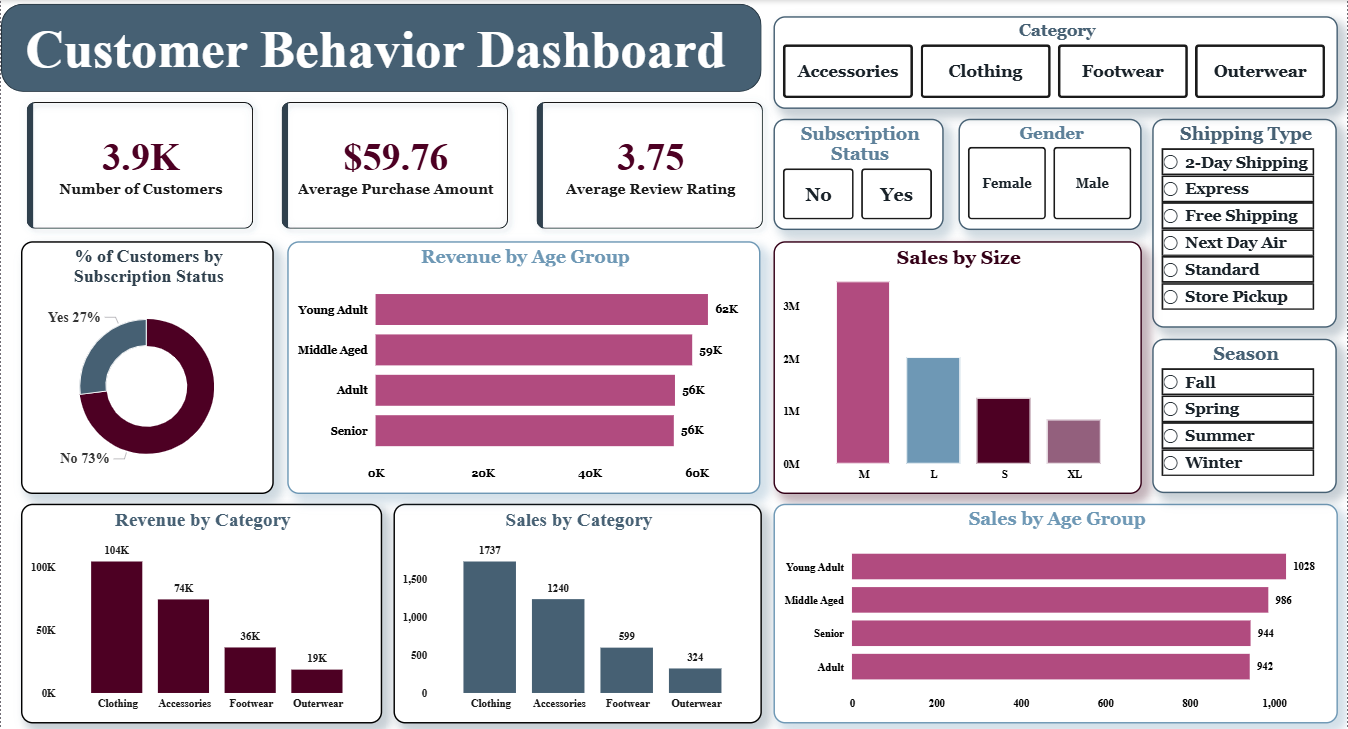

What the dashboard file says about the page in this screenshot:
{"tool":"powerbi","page":{"name":"Page 1","canvas":[1500,820],"ordinal":0},"visuals":[{"type":"cardVisual","fields":{"Data":["customer_analysis customer.Number of Customers","customer_analysis customer.Average Purchase Amount","customer_analysis customer.Average Review Rating"]},"box":[0,85.2,878,199.4],"z":0},{"type":"shape","box":[0,4.8,847.5,98.1],"z":1000},{"type":"textbox","box":[22.5,16.1,1043.6,104.5],"z":2000},{"type":"donutChart","title":"% of Customers by Subscription Status","fields":{"Category":["customer_analysis customer.subscription_status"],"Y":["CountNonNull(customer_analysis customer.customer_id)"]},"box":[22.5,268.5,281.4,281.4],"z":3000},{"type":"clusteredColumnChart","title":"Revenue by Category","fields":{"Y":["Sum(customer_analysis customer.purchase_amount)"],"Category":["customer_analysis customer.category"]},"box":[22.5,561.2,402,244.4],"z":4000},{"type":"clusteredColumnChart","title":"Sales by Category","fields":{"Y":["CountNonNull(customer_analysis customer.customer_id)"],"Category":["customer_analysis customer.category"]},"box":[437.4,561.2,410.1,244.4],"z":5000},{"type":"advancedSlicerVisual","title":"Subscription Status","fields":{"Values":["customer_analysis customer.subscription_status"]},"box":[860.3,131.9,189.8,123.8],"z":6000},{"type":"advancedSlicerVisual","title":"Gender","fields":{"Values":["customer_analysis customer.gender"]},"box":[1066.1,131.9,204.2,123.8],"z":7000},{"type":"listSlicer","title":"Shipping Type","fields":{"Values":["customer_analysis customer.shipping_type"]},"box":[1283.2,131.9,205.8,233.2],"z":8000},{"type":"advancedSlicerVisual","title":"Category","fields":{"Values":["customer_analysis customer.category"]},"box":[860.3,17.7,628.8,102.9],"z":9000},{"type":"clusteredBarChart","title":"Revenue by Age Group","fields":{"Y":["Sum(customer_analysis customer.purchase_amount)"],"Category":["customer_analysis customer.age_group"]},"box":[318.4,268.5,527.4,281.4],"z":10000},{"type":"columnChart","title":"Sales by Size","fields":{"Category":["customer_analysis customer.size"],"Y":["Sum(customer_analysis customer.customer_id)"]},"box":[860.3,268.5,410.1,281.4],"z":11000},{"type":"clusteredBarChart","title":"Sales by Age Group","fields":{"Y":["CountNonNull(customer_analysis customer.customer_id)"],"Category":["customer_analysis customer.age_group"]},"box":[860.3,561.2,628.8,244.4],"z":12000},{"type":"listSlicer","title":"Season","fields":{"Values":["customer_analysis customer.season"]},"box":[1283.2,377.9,205.8,172.1],"z":13000}]}

Visuals, with their boxes in screenshot pixels (x1, y1, x2, y2), scaled from the page's 1500x820 canvas onto the 1348x729 screenshot:
cardVisual - customer_analysis customer.Number of Customers x customer_analysis customer.Average Purchase Amount: 0/76/789/253
shape: 0/4/762/91
textbox: 20/14/958/107
"% of Customers by Subscription Status" donutChart: 20/239/273/489
"Revenue by Category" clusteredColumnChart: 20/499/381/716
"Sales by Category" clusteredColumnChart: 393/499/762/716
"Subscription Status" advancedSlicerVisual: 773/117/944/227
"Gender" advancedSlicerVisual: 958/117/1142/227
"Shipping Type" listSlicer: 1153/117/1338/325
"Category" advancedSlicerVisual: 773/16/1338/107
"Revenue by Age Group" clusteredBarChart: 286/239/760/489
"Sales by Size" columnChart: 773/239/1142/489
"Sales by Age Group" clusteredBarChart: 773/499/1338/716
"Season" listSlicer: 1153/336/1338/489
